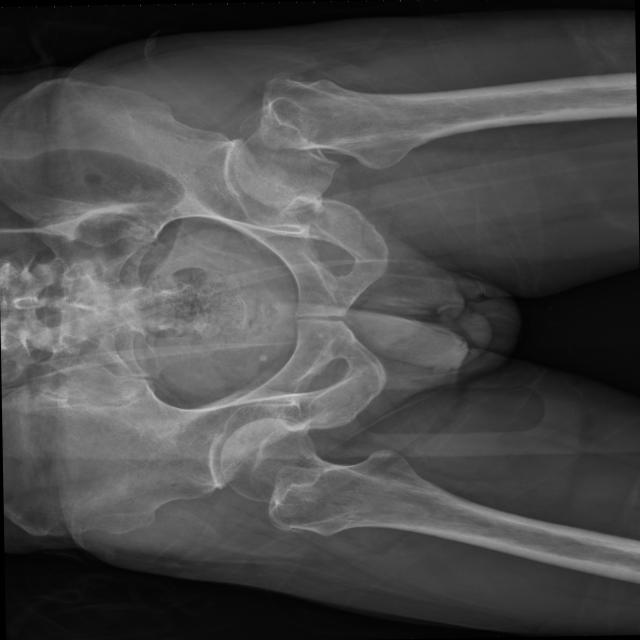left-neck: (258, 71, 482, 168), (233, 116, 339, 209)
normal-right: (219, 417, 478, 541)
